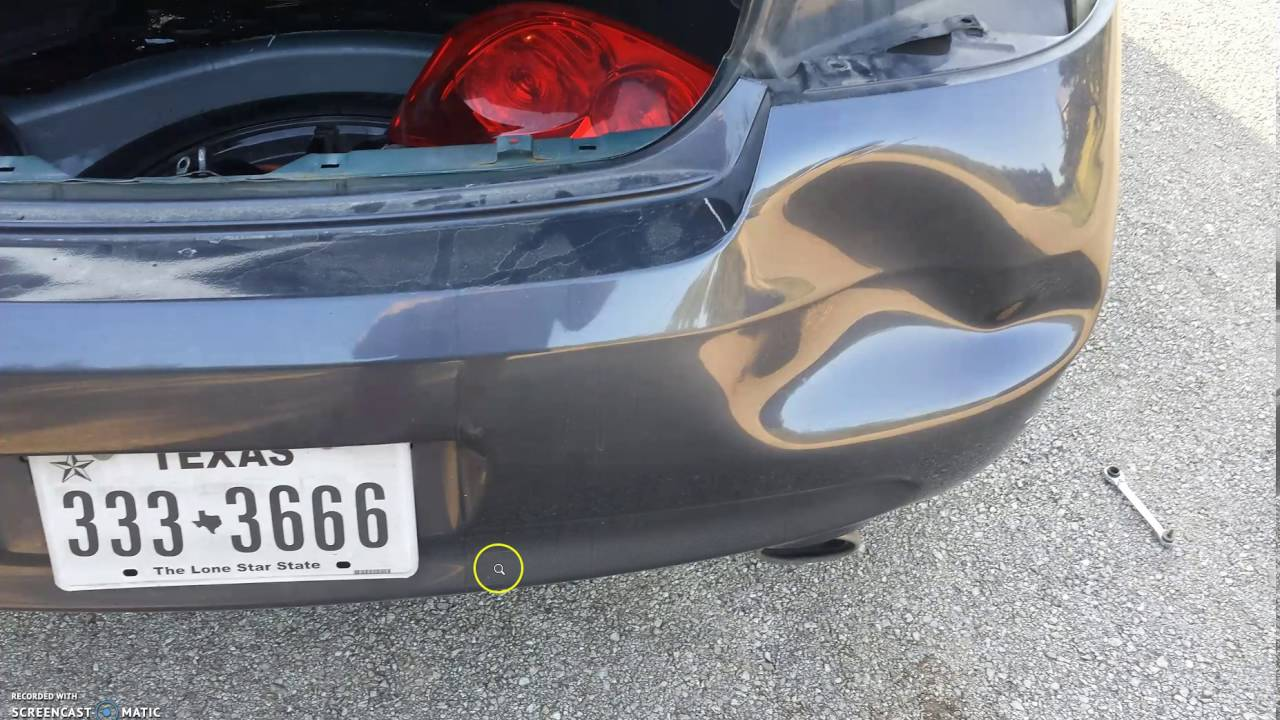car_dent: (709, 155, 1101, 439)
